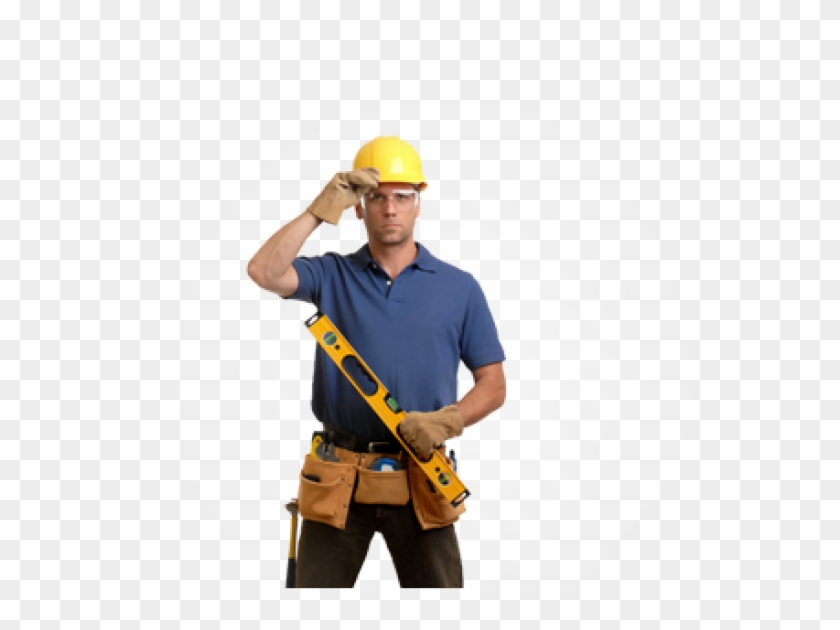Person_wearing_helmet: (345, 120, 433, 199)
